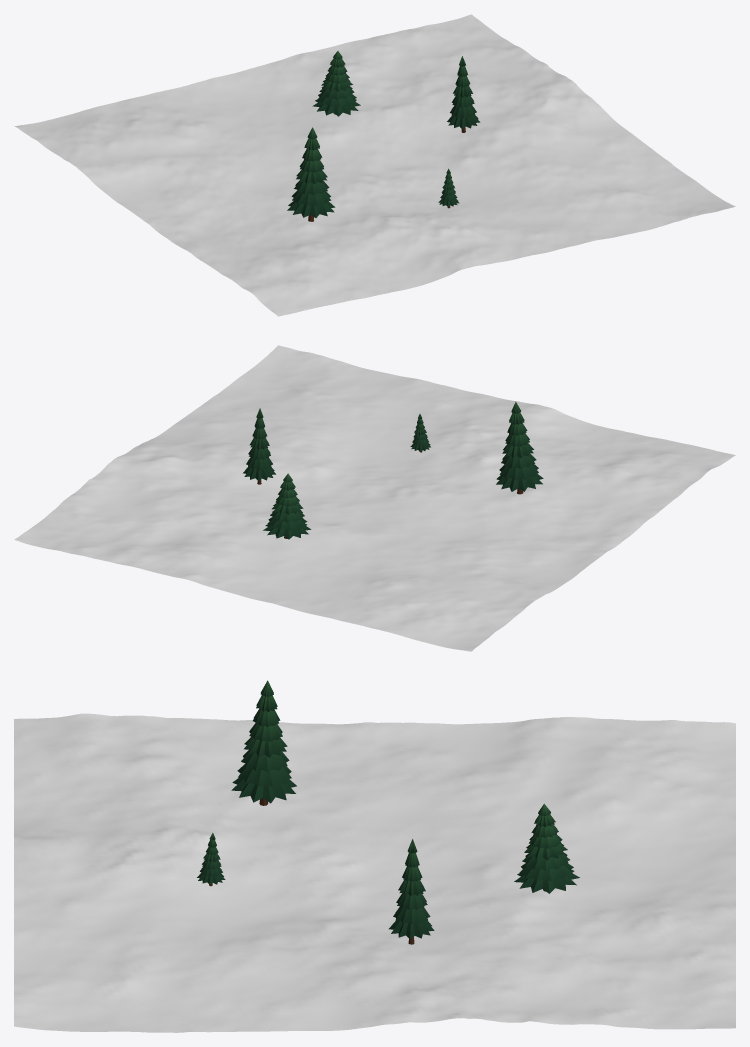
File: forest.fbx
The picture shows the model from 3 angles, top to bottom: view 1: azimuth 30°, elevation 25°; view 2: azimuth 150°, elevation 25°; view 3: azimuth 270°, elevation 25°; orthographic projection. The views are drawn at different scales.
Visible parts, largest first — view 1: fairy_forest_scene; view 2: fairy_forest_scene; view 3: fairy_forest_scene.
Boxes of the visible parts, <box> form: fairy_forest_scene: <box>14,14,735,316</box>; fairy_forest_scene: <box>14,345,735,651</box>; fairy_forest_scene: <box>14,680,735,1032</box>.
Bounding box in the file's own units: 40 × 8.13 × 40.
